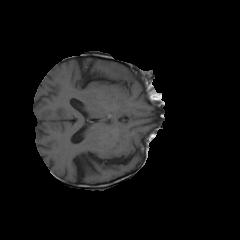glioma: (96, 61, 134, 98)
